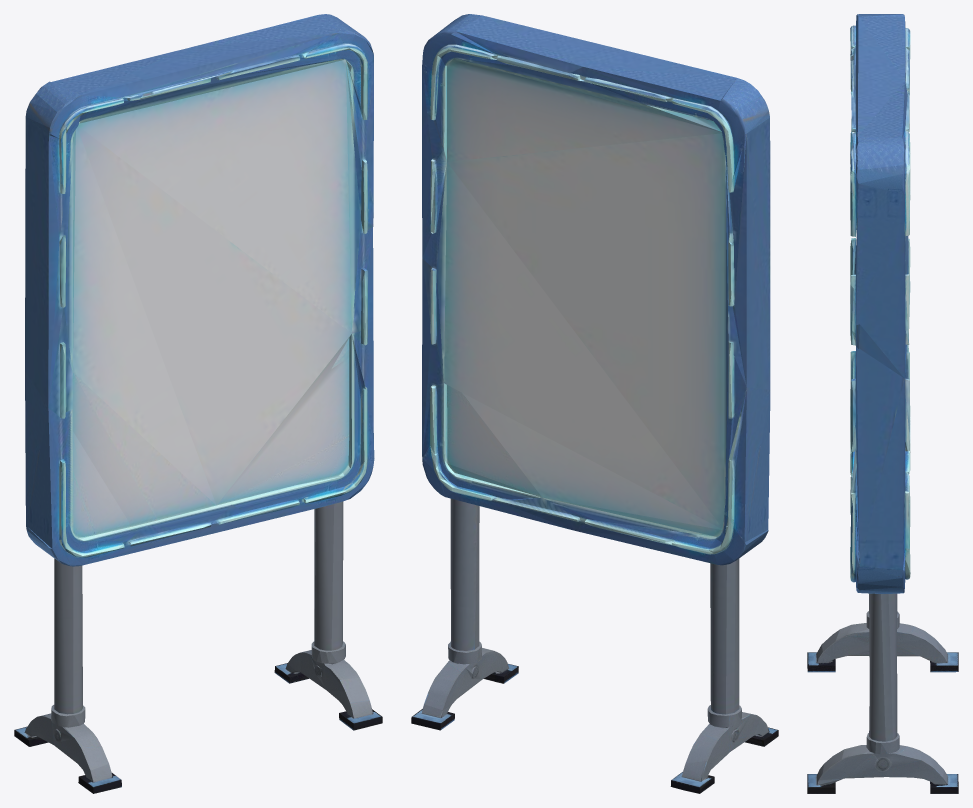
Rendered from billboard.glb.
The picture shows the model from 3 angles, left to right: view 1: azimuth 30°, elevation 25°; view 2: azimuth 150°, elevation 25°; view 3: azimuth 270°, elevation 25°; orthographic projection. The views are drawn at different scales.
Size of the model in its own units: 0.96 by 1.9 by 0.4025.
Materials: 1 (1 with a texture image).
